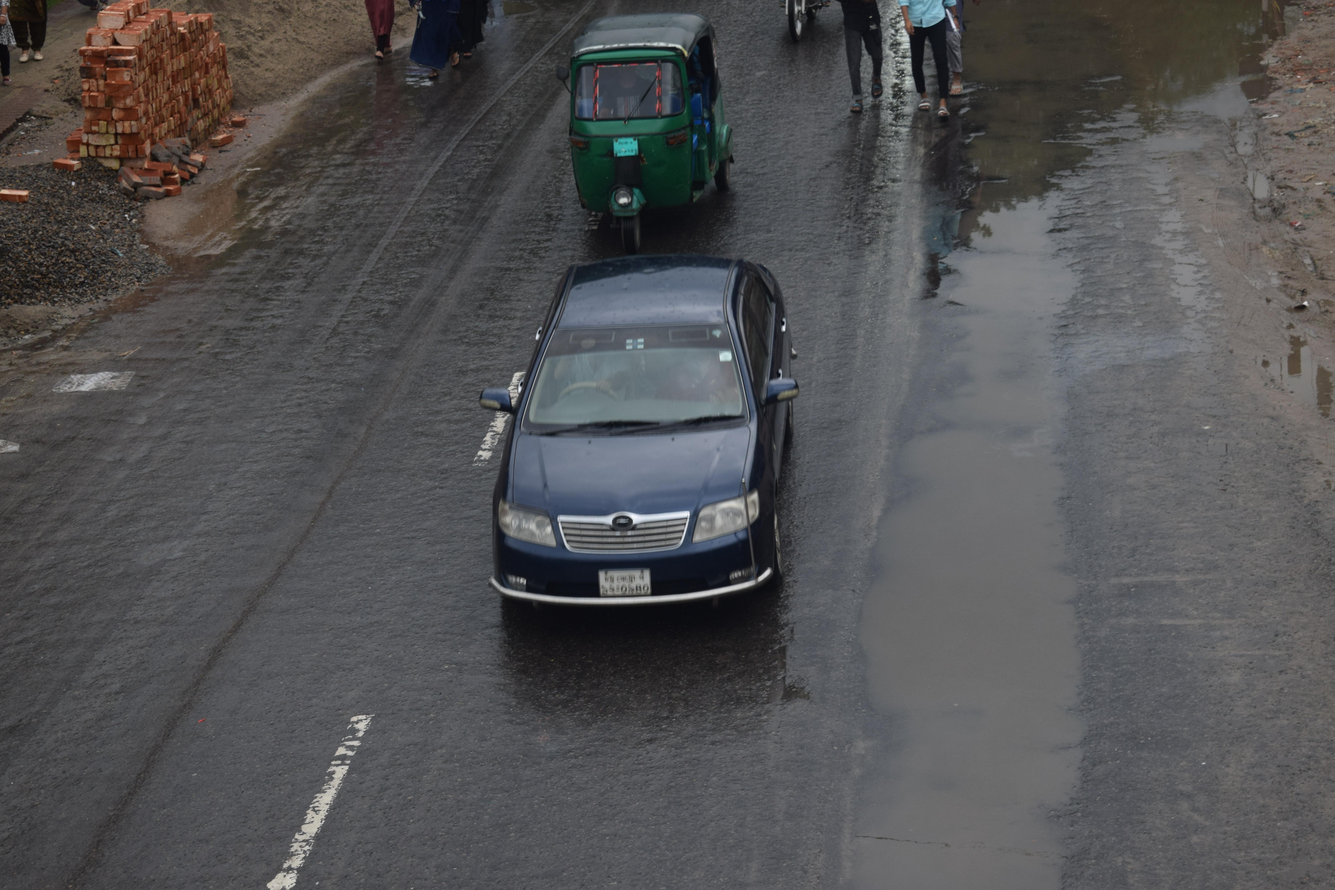Car: (444, 220, 843, 674)
